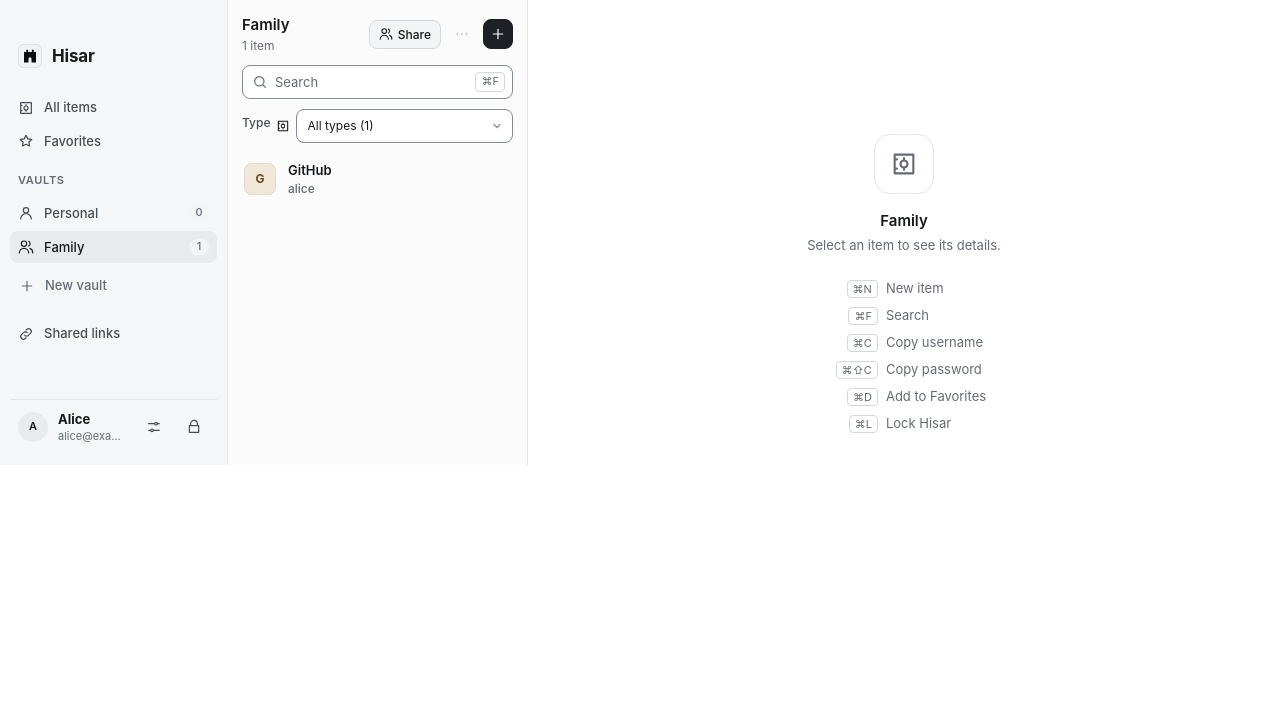
Scenario: Vault sharing panel › resends the pending row's vault, email and role and keeps failures at that row
Click the button with test id "share-vault": (405, 34) [369,20,441,49]
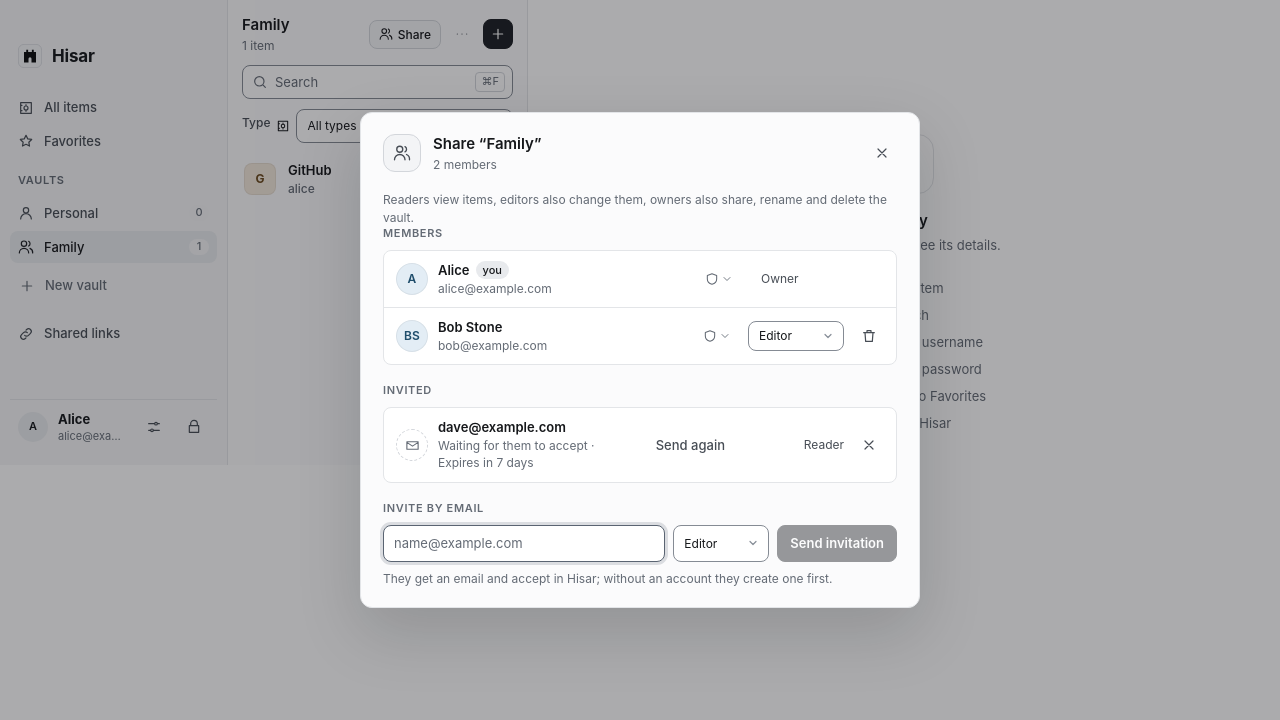
Result: the list item with test id "vault-invitation-invitation-to-dave" shows "Expires in" at [438,438,594,470]
Click the button with test id "resend-invitation-invitation-to-dave": (690, 445) [643,428,738,462]
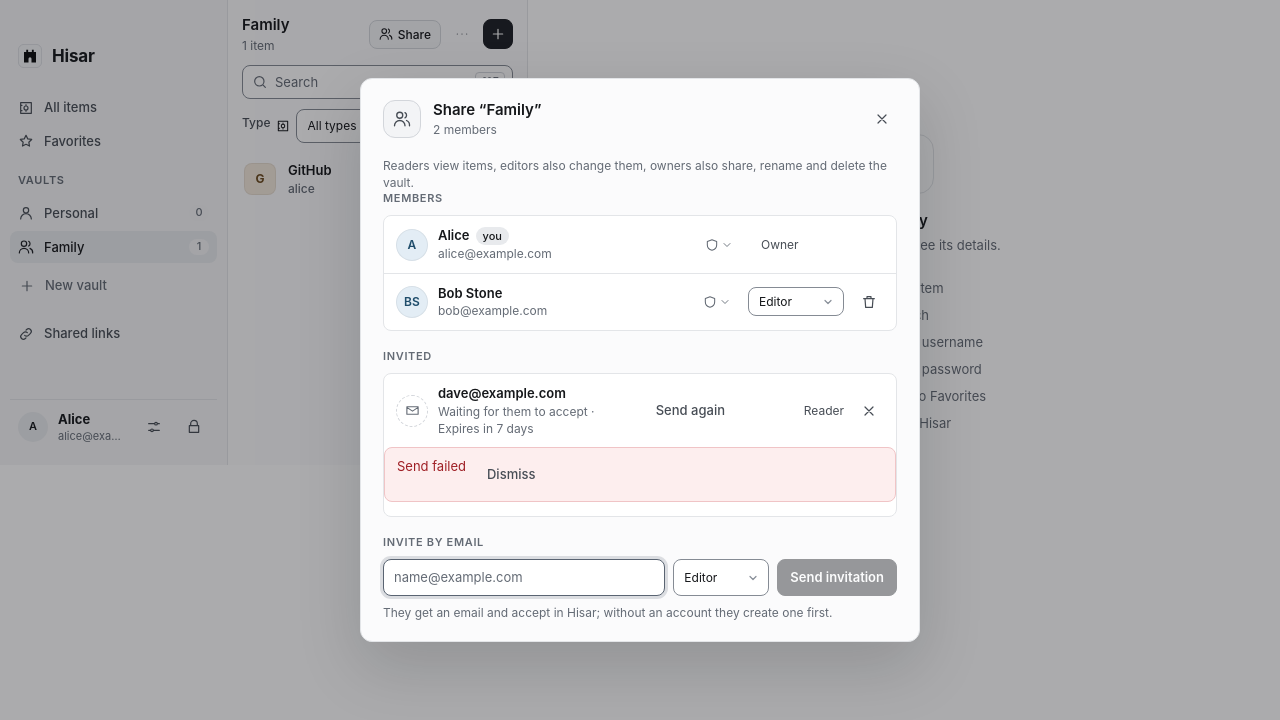
Result: the message "Send failed Dismiss" is shown at [384,447,896,502]
